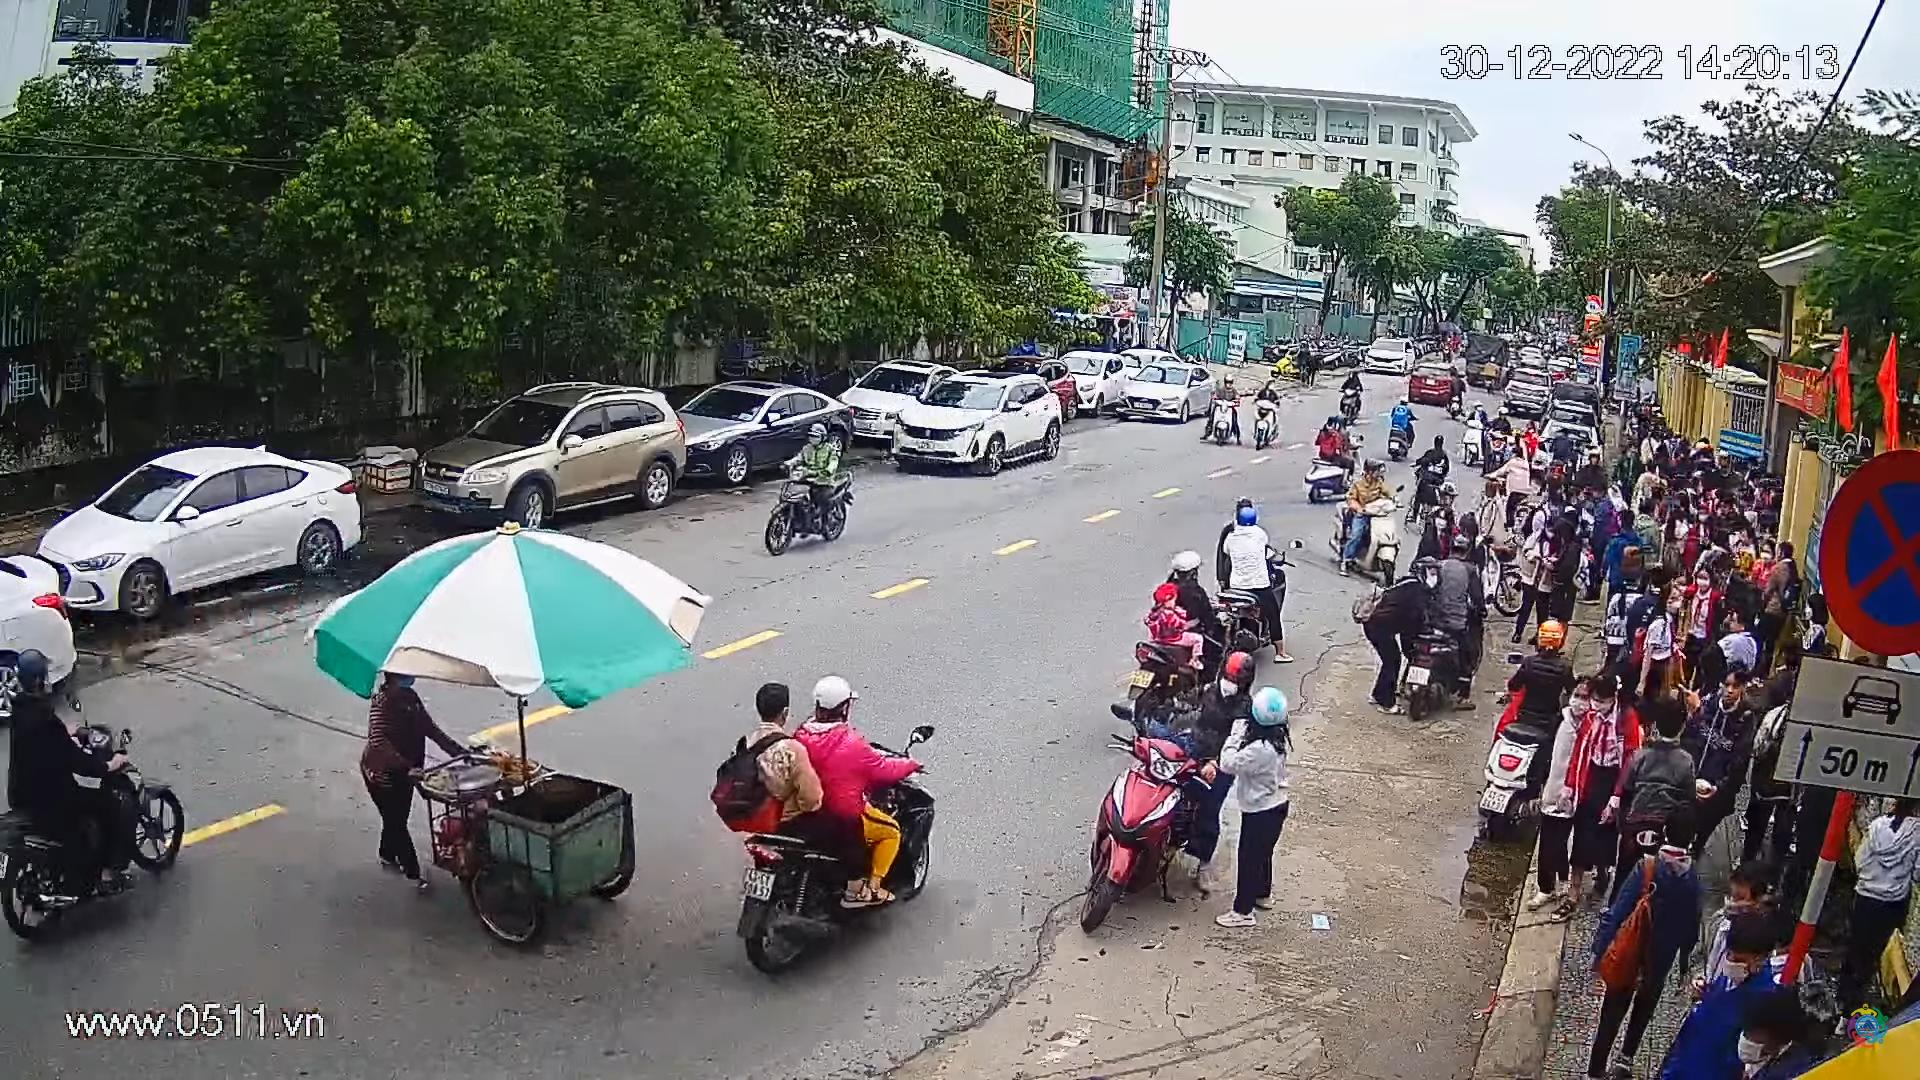rudimentary_vehicle: (378, 711, 662, 971)
